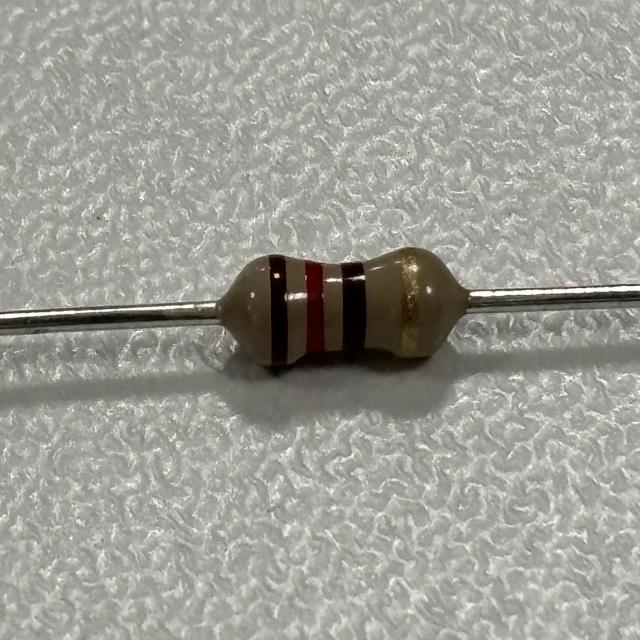resistor: (235, 244, 450, 373)
